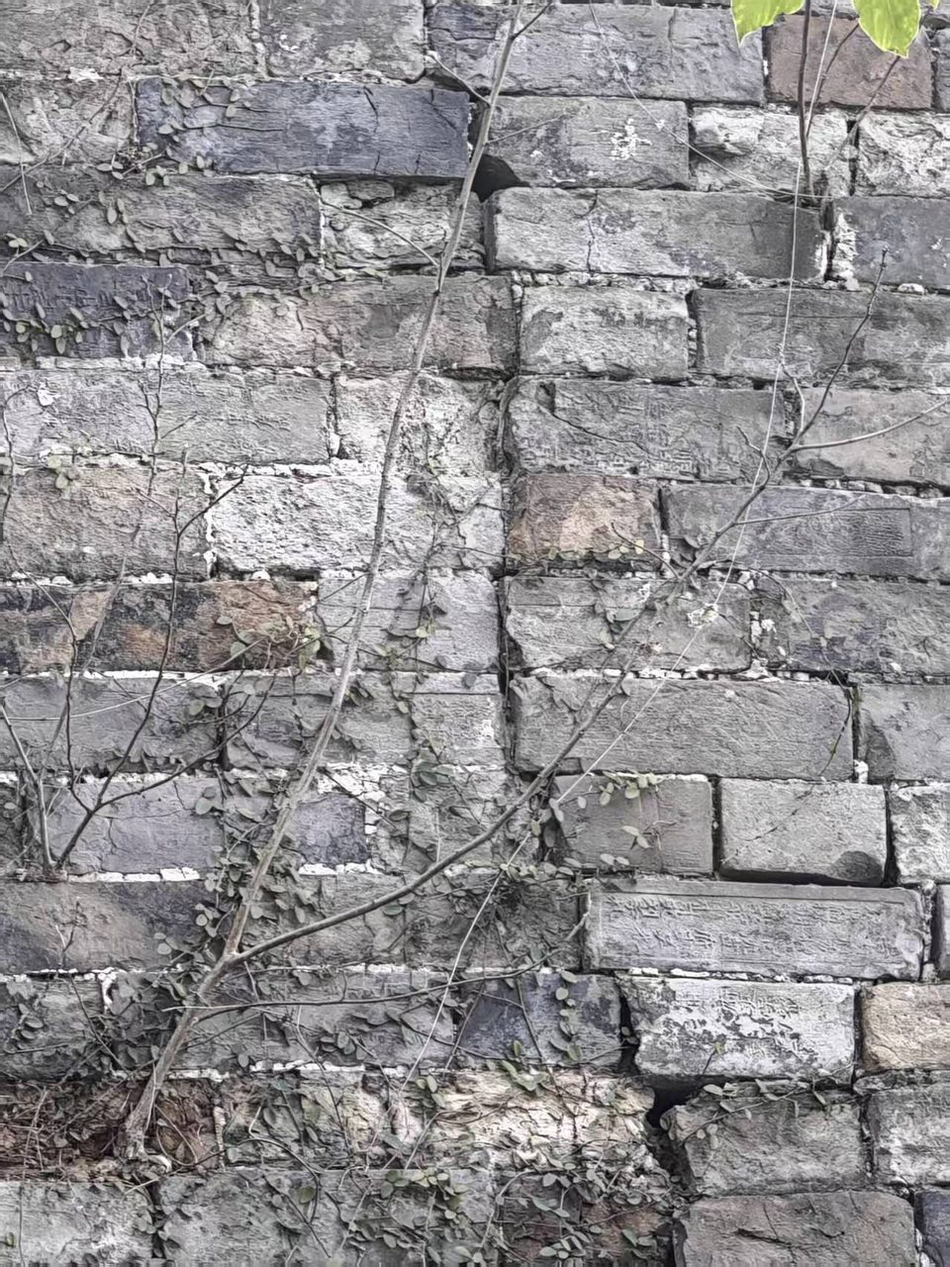crack: (432, 25, 579, 882), (568, 952, 701, 1267), (836, 967, 950, 1267)
